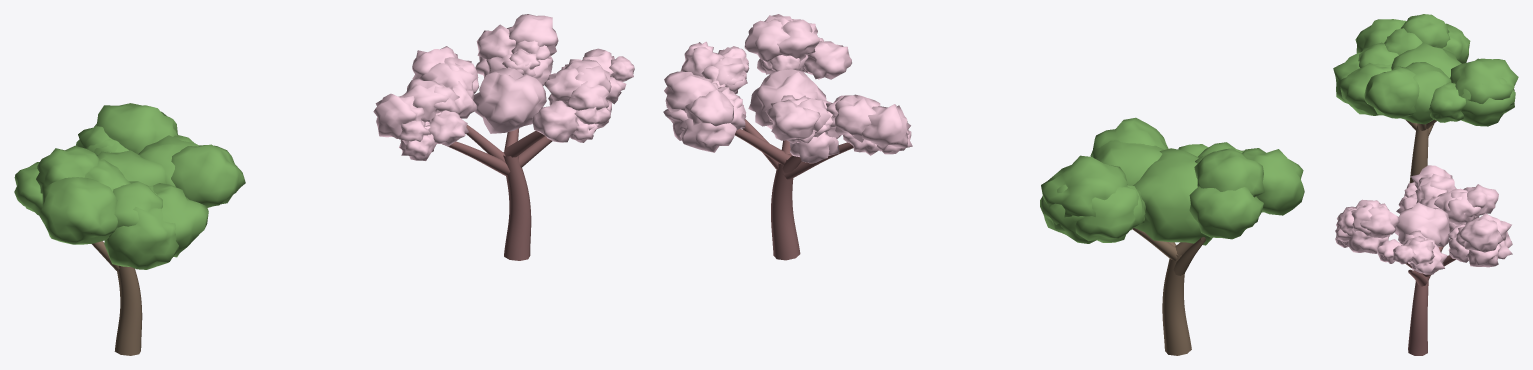
The picture shows the model from 3 angles, left to right: view 1: azimuth 30°, elevation 25°; view 2: azimuth 150°, elevation 25°; view 3: azimuth 270°, elevation 25°; orthographic projection. The views are drawn at different scales.
Visible parts, largest first — view 1: Oak, Cherry; view 2: Oak, Cherry; view 3: Oak, Cherry.
Boxes of the visible parts, x1=… form: Oak: x1=14, y1=103, x2=245, y2=355; Cherry: x1=373, y1=14, x2=634, y2=260; Oak: x1=1040, y1=117, x2=1304, y2=355; Cherry: x1=663, y1=14, x2=912, y2=260; Oak: x1=1333, y1=14, x2=1518, y2=182; Cherry: x1=1335, y1=165, x2=1512, y2=355.
Bounding box in the file's own units: 3.07 × 1.04 × 1.06.
